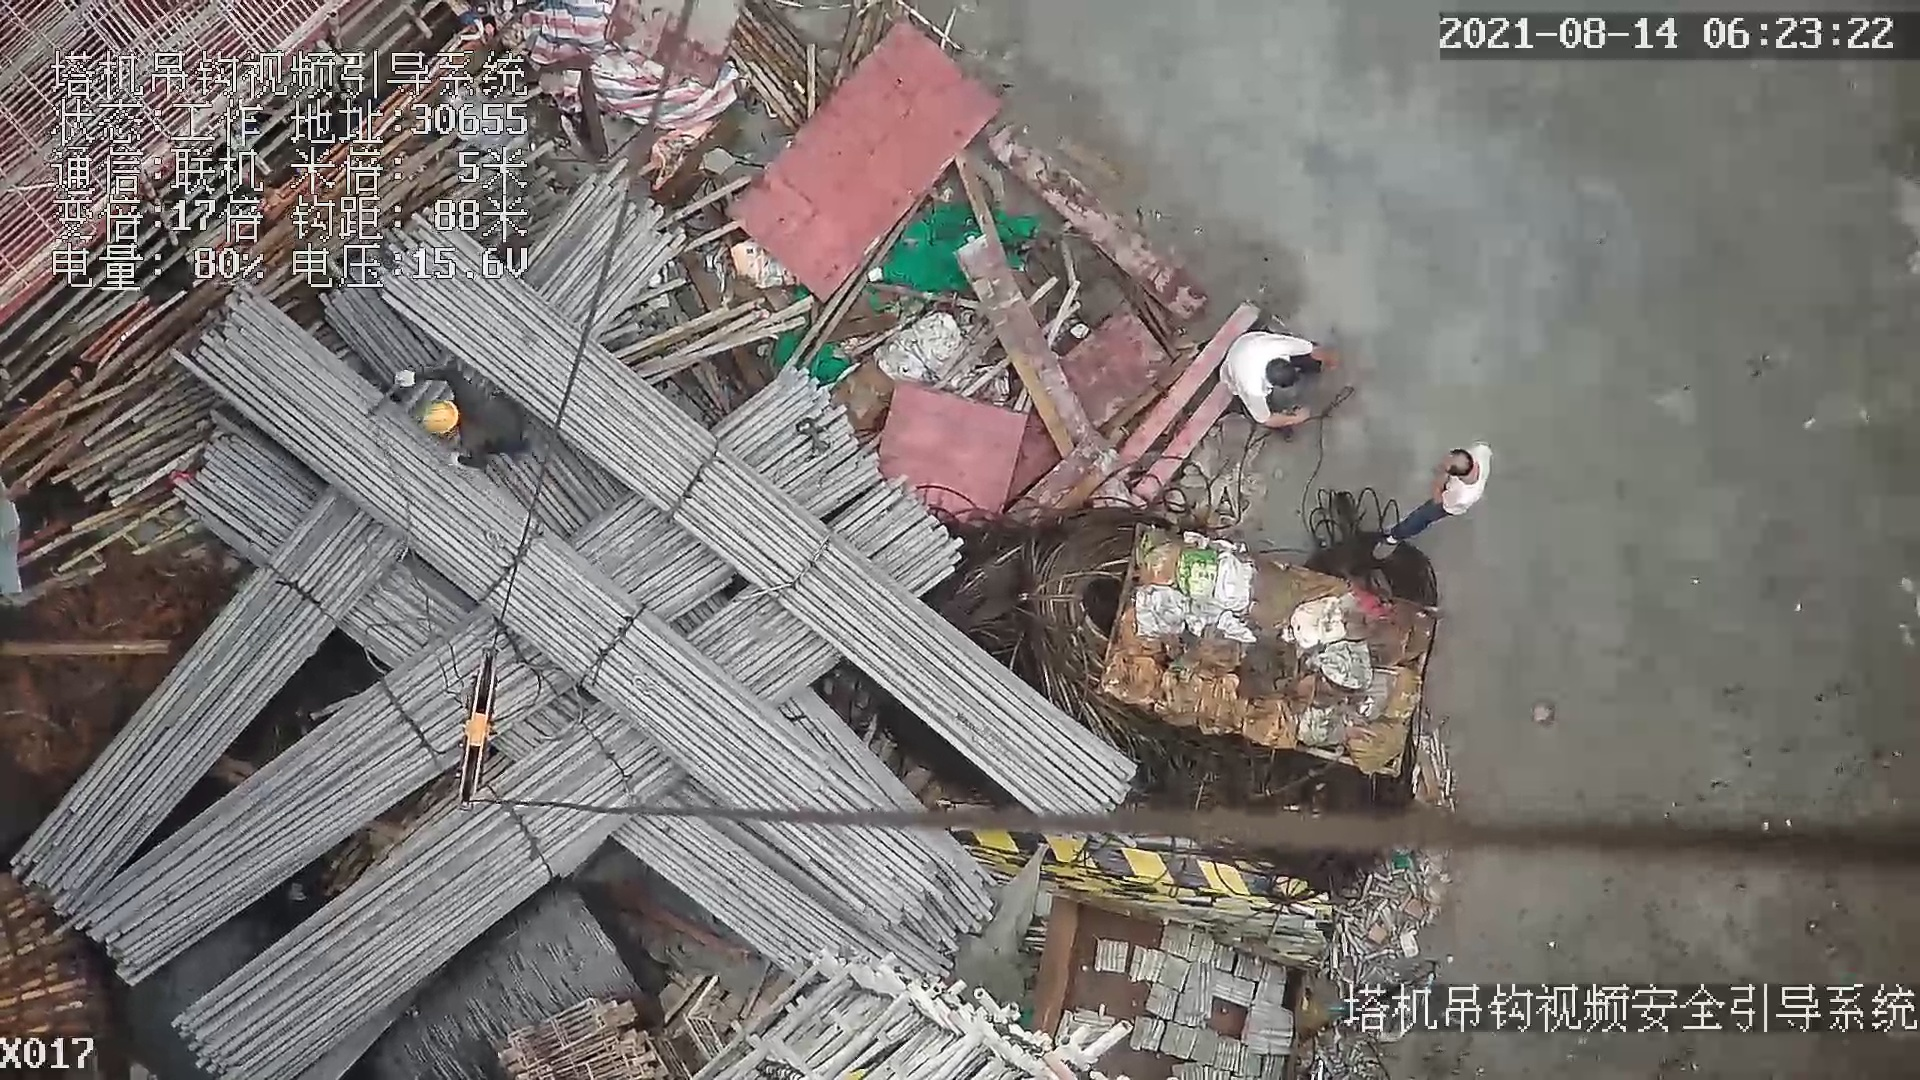helmet: (416, 395, 469, 439)
person: (391, 356, 533, 472), (1377, 432, 1495, 563), (1219, 326, 1335, 436)
